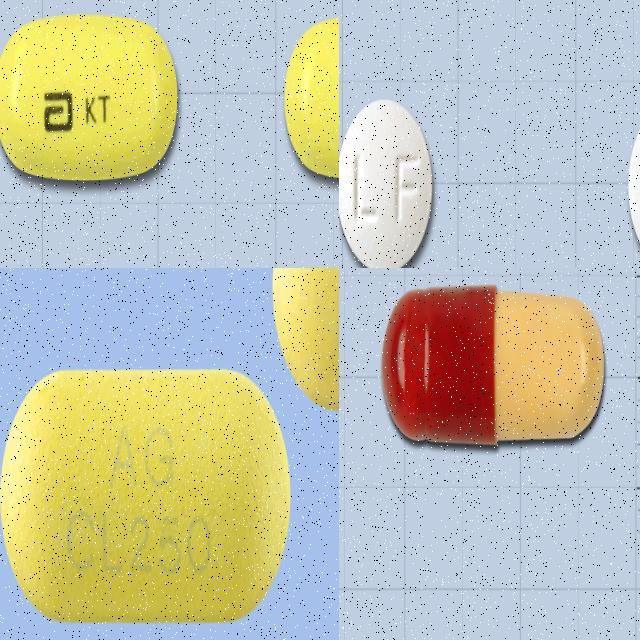Gomcillin Cap: (381, 286, 606, 449)
Klaricid Film Coated - 500mg: (0, 12, 178, 181), (284, 13, 339, 181)
Levofloxacin Tab- Withus: (339, 98, 432, 268)
Shuclari Tab-500mg: (0, 370, 293, 624)
